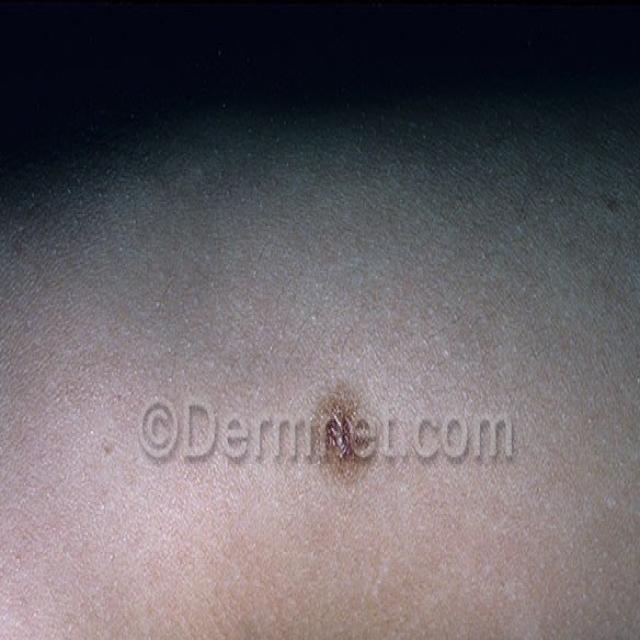Vascular Tumors: (285, 391, 395, 508)
